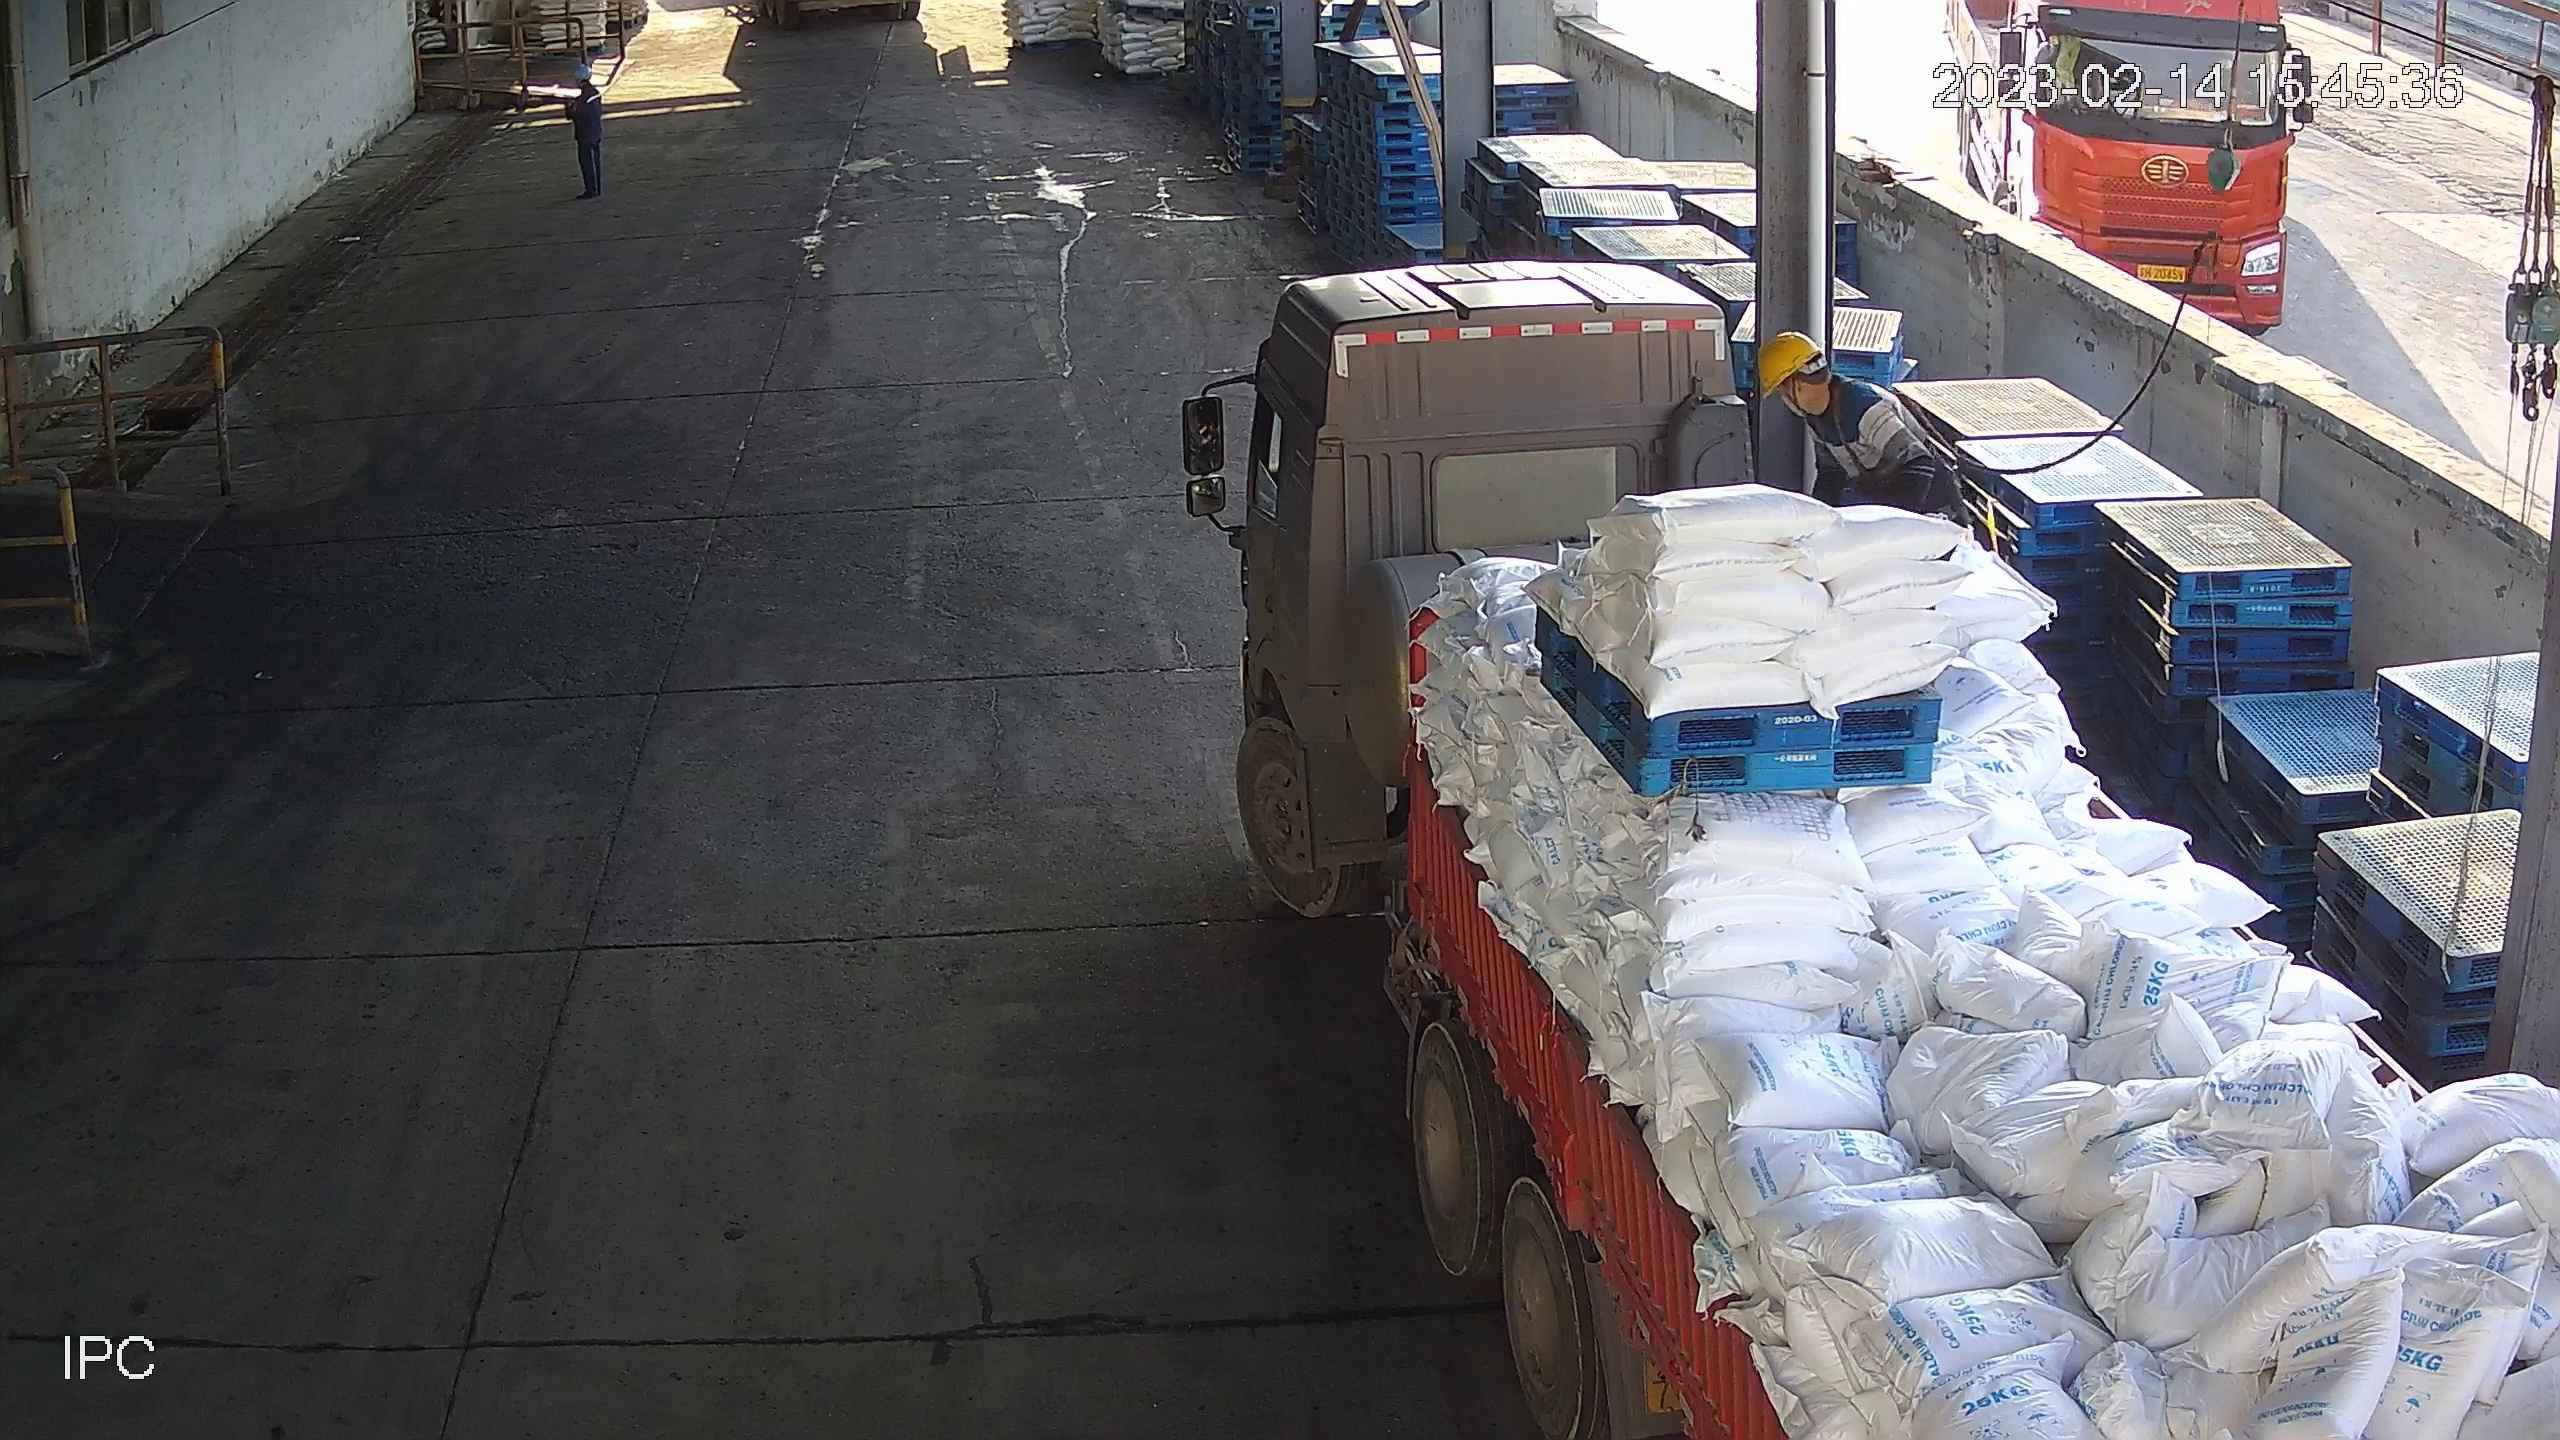belt: (1809, 383, 1872, 476)
head: (1752, 334, 1880, 444), (569, 64, 602, 102)
helmet: (1746, 332, 1821, 390), (574, 64, 594, 78)
people: (565, 63, 609, 201)
truck: (1176, 257, 2560, 1440)
